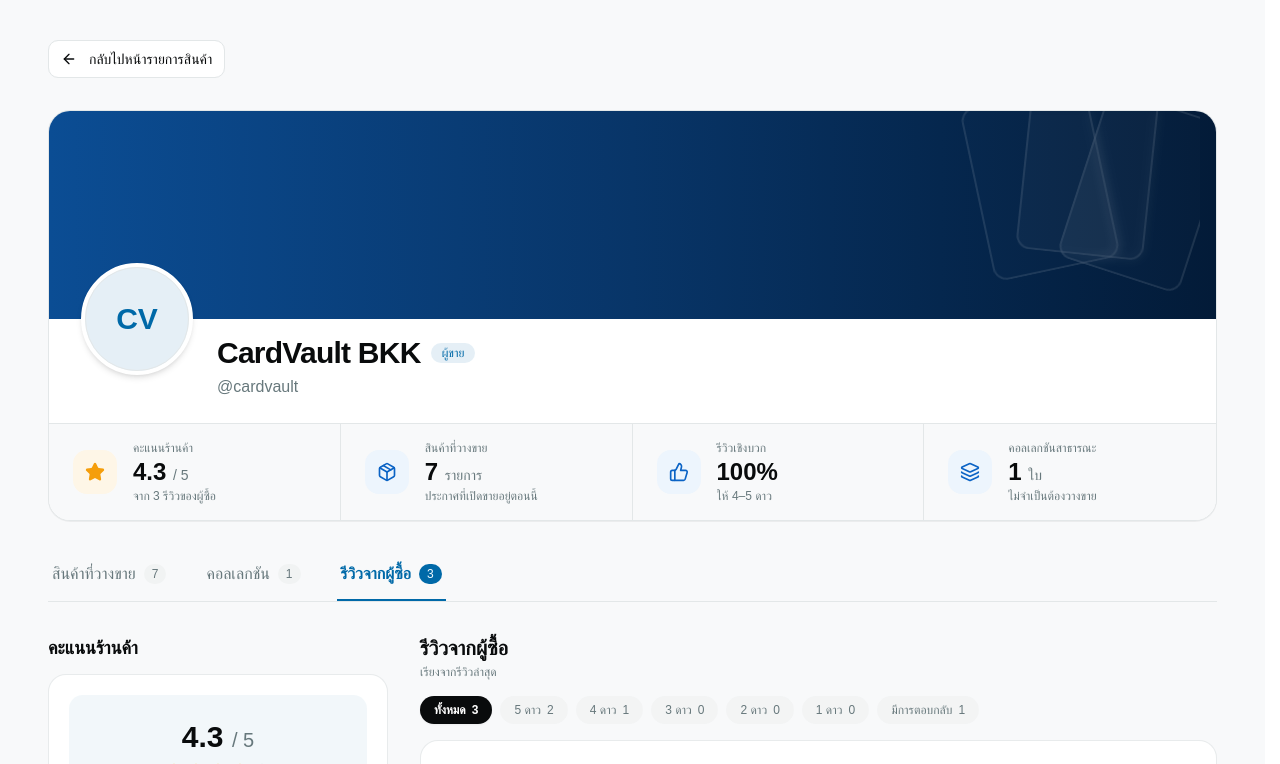
PublicSellerPage V3 › filters reviews client-side using filter chips
The image size is (1280, 764).
Note: Click "5 ดาว" filter
Click the button "5 ดาว 2": (534, 710) [500,696,568,724]
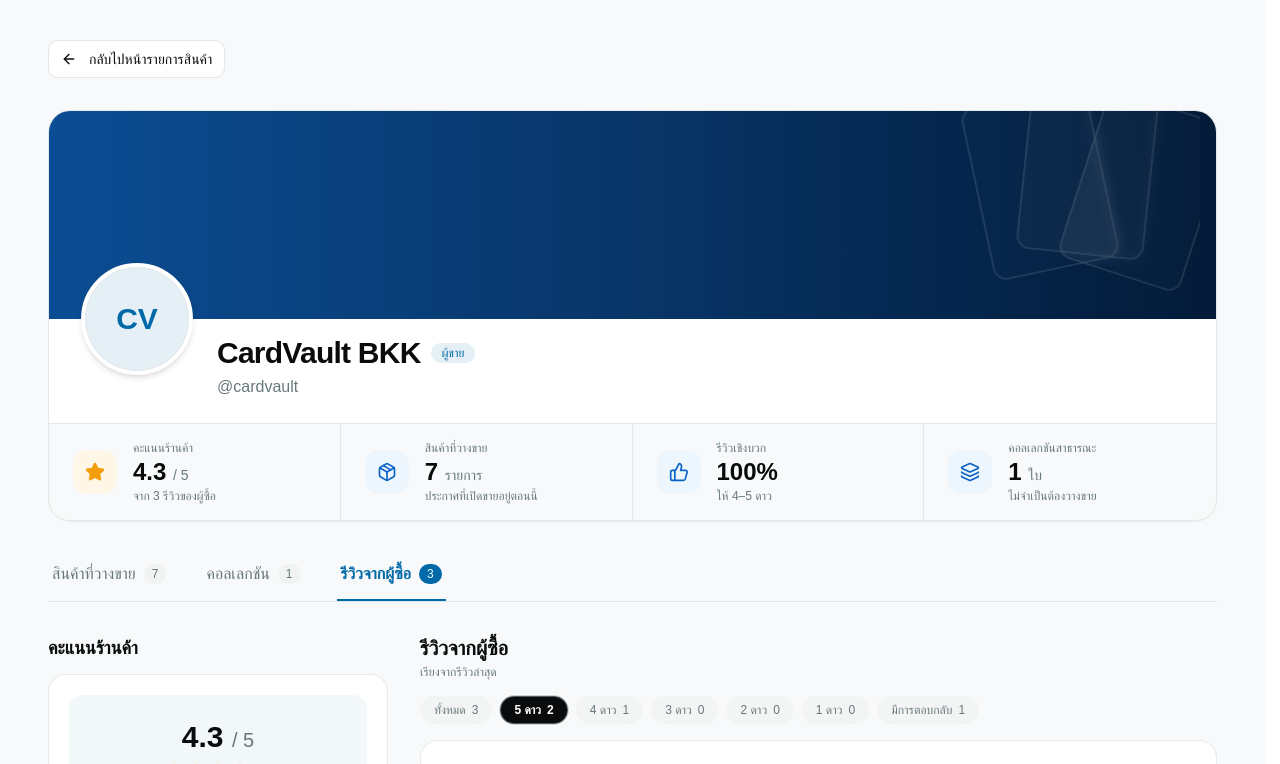
Expected: the text "ส่งช้าไปวันนึง" is not shown
Note: Click "มีการตอบกลับ" filter
Click the button "มีการตอบกลับ 1": (928, 710) [877,696,979,724]
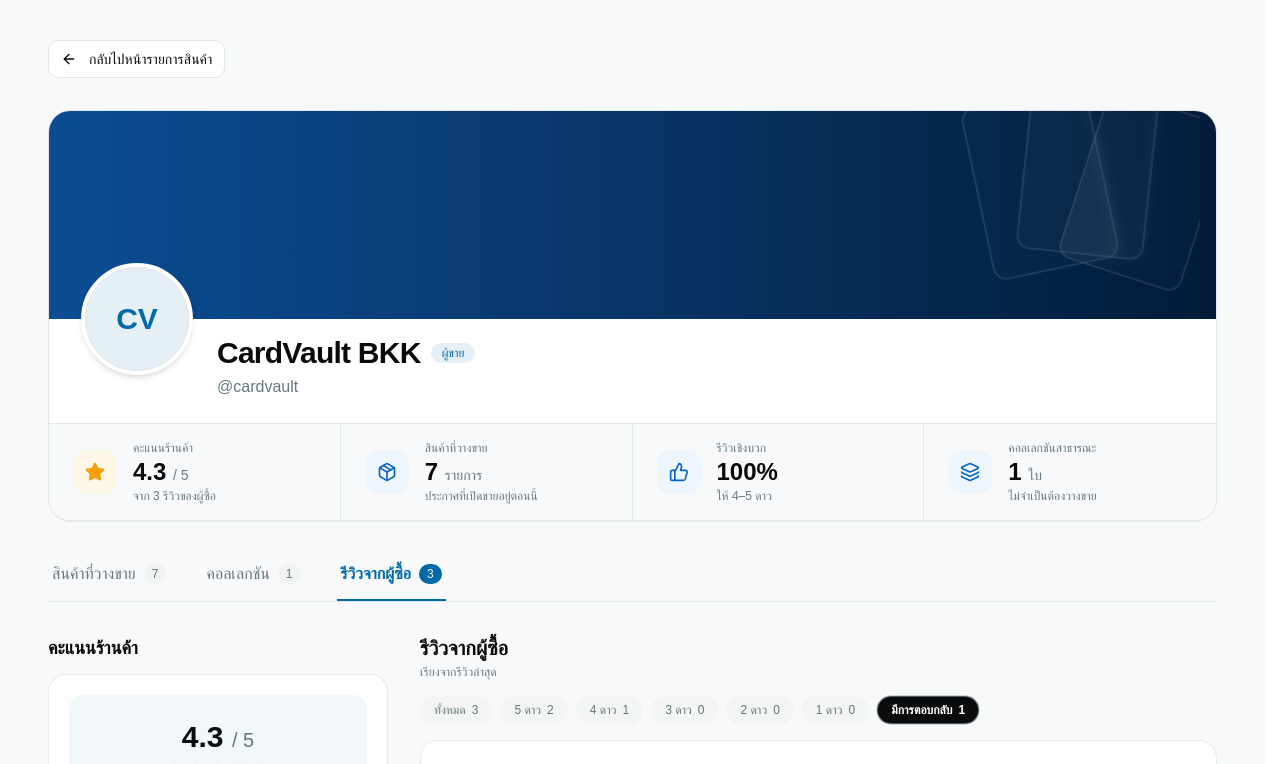
Expected: the text "ส่งช้าไปวันนึง" is not shown
Note: Click "ทั้งหมด" to reset filter
Click the button "ทั้งหมด 3": (456, 710) [420,696,492,724]
(page scrolled)
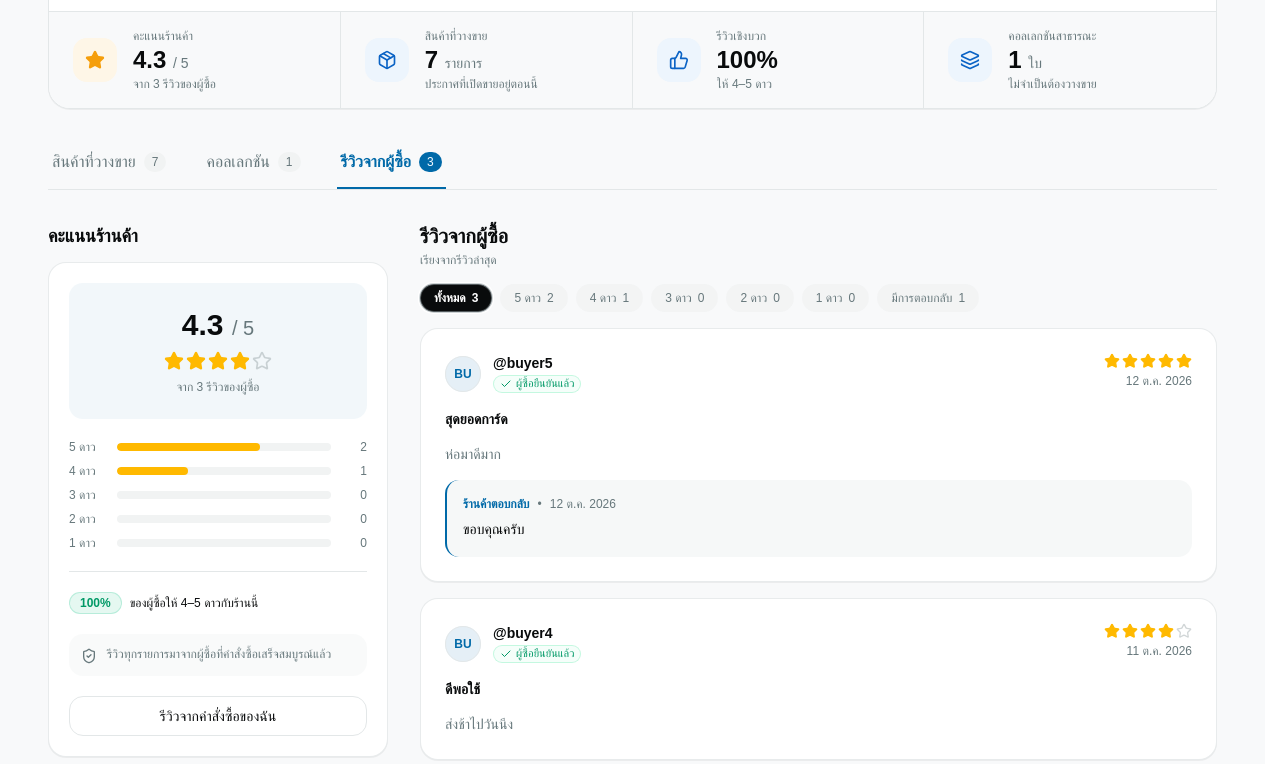
Expected: the text "ห่อมาดีมาก" is shown, [445,446,501,462]
Now the text "ส่งช้าไปวันนึง" is shown, box [445,716,513,732]
